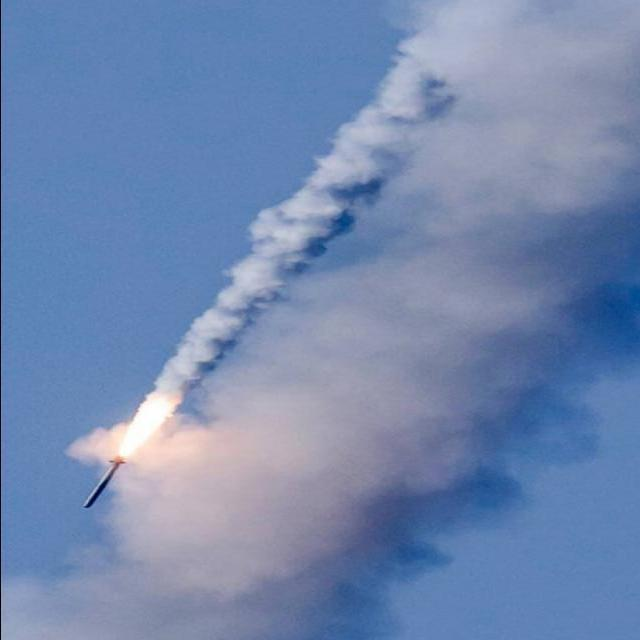missile: (77, 437, 139, 530)
